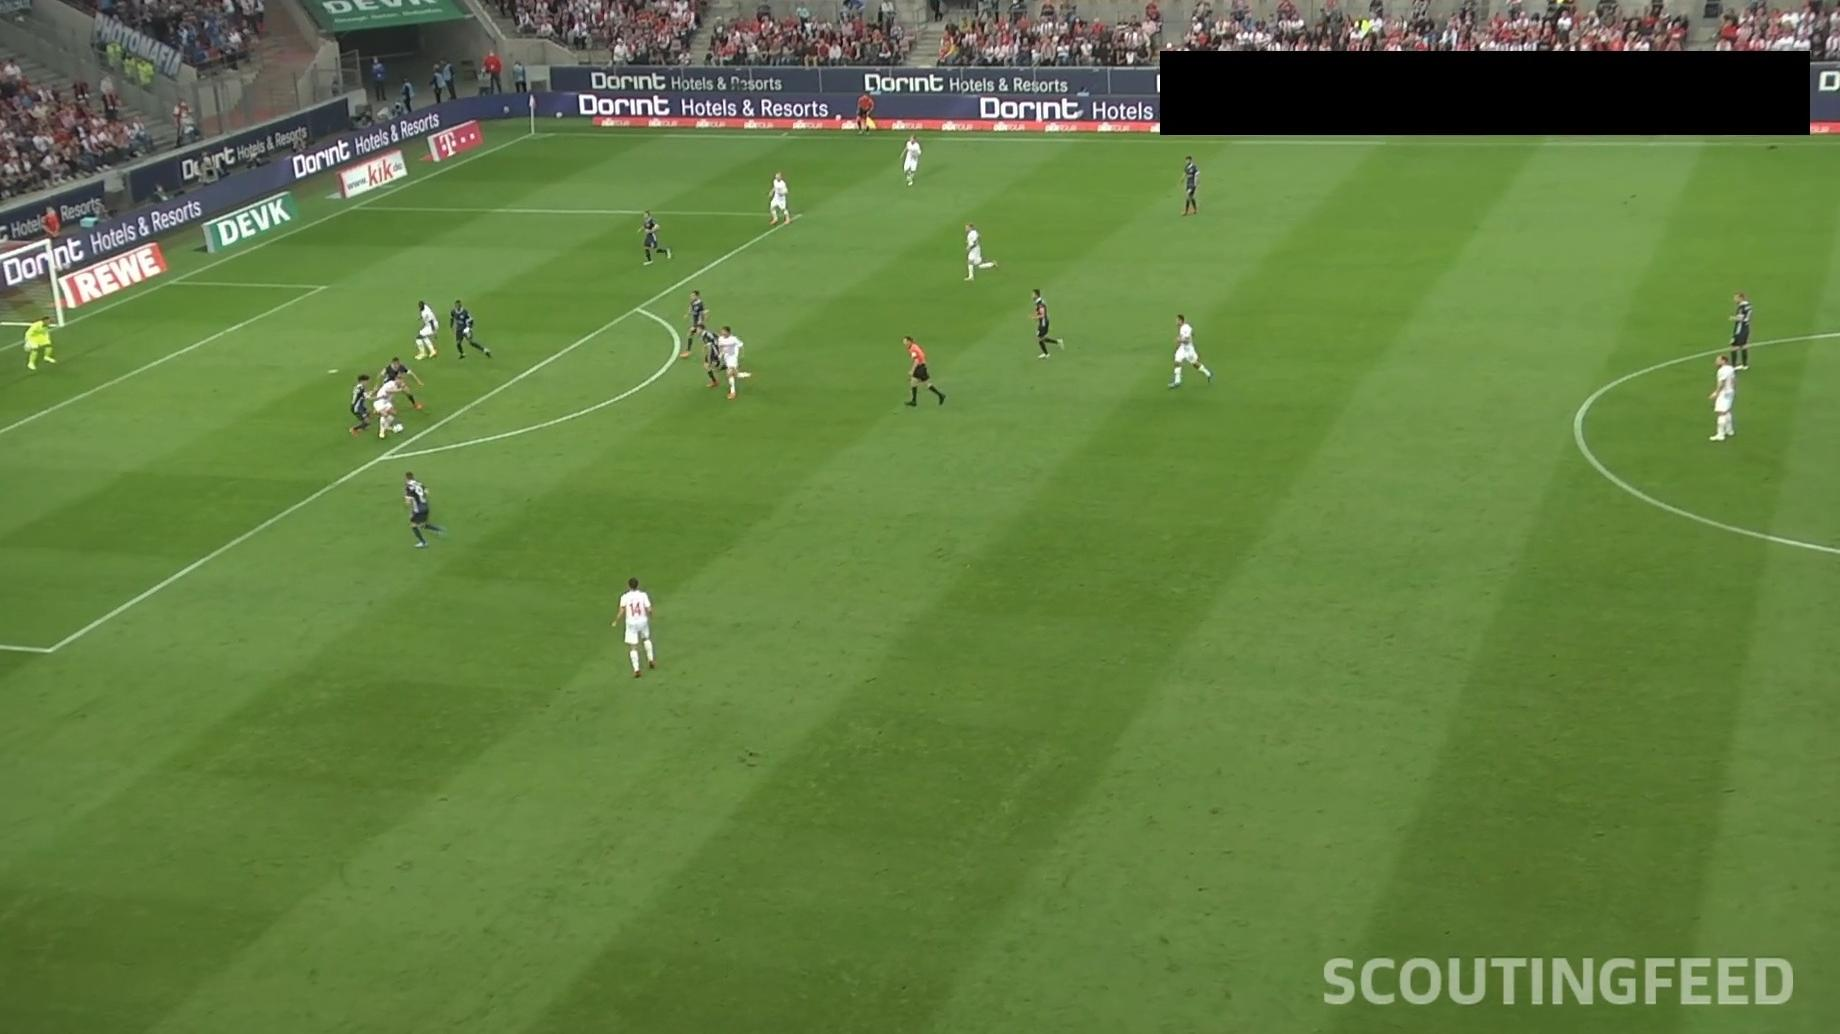ball: (390, 421, 406, 435)
